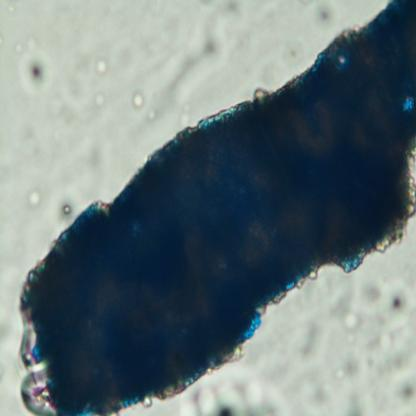Background material: (166, 29, 229, 96), (188, 375, 278, 416), (370, 340, 416, 374), (328, 288, 359, 334), (379, 282, 410, 322), (24, 62, 58, 94), (336, 345, 363, 383), (341, 385, 366, 416), (21, 183, 45, 211), (90, 49, 112, 78), (9, 35, 40, 54), (400, 377, 416, 400), (88, 88, 109, 105), (129, 89, 144, 110), (60, 203, 76, 219), (143, 109, 158, 120)
Fragment: (5, 0, 416, 416)
